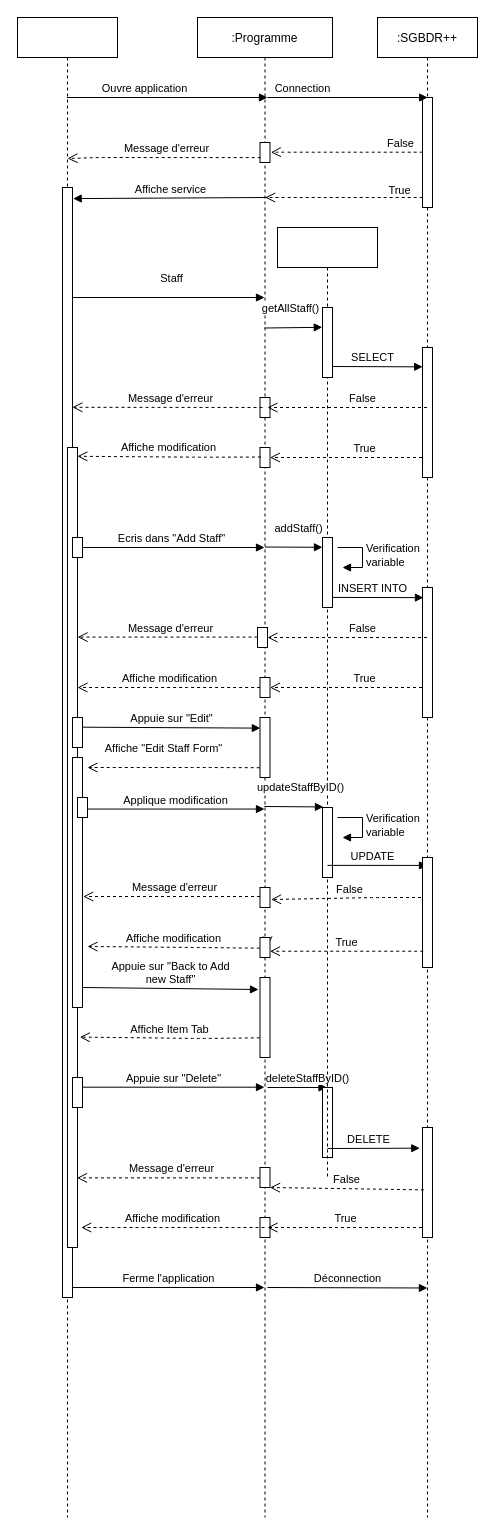
The diagram is 495 pixels wide and 1535 high, and some of its shapes have lost their labels. The shapes that lost their labels are listed below. From the top down, each one's box as (x1, y1, x2, y2) in pixels, then its label:
(276, 226, 378, 1178): :StaffModel
(16, 16, 118, 1518): :Client
